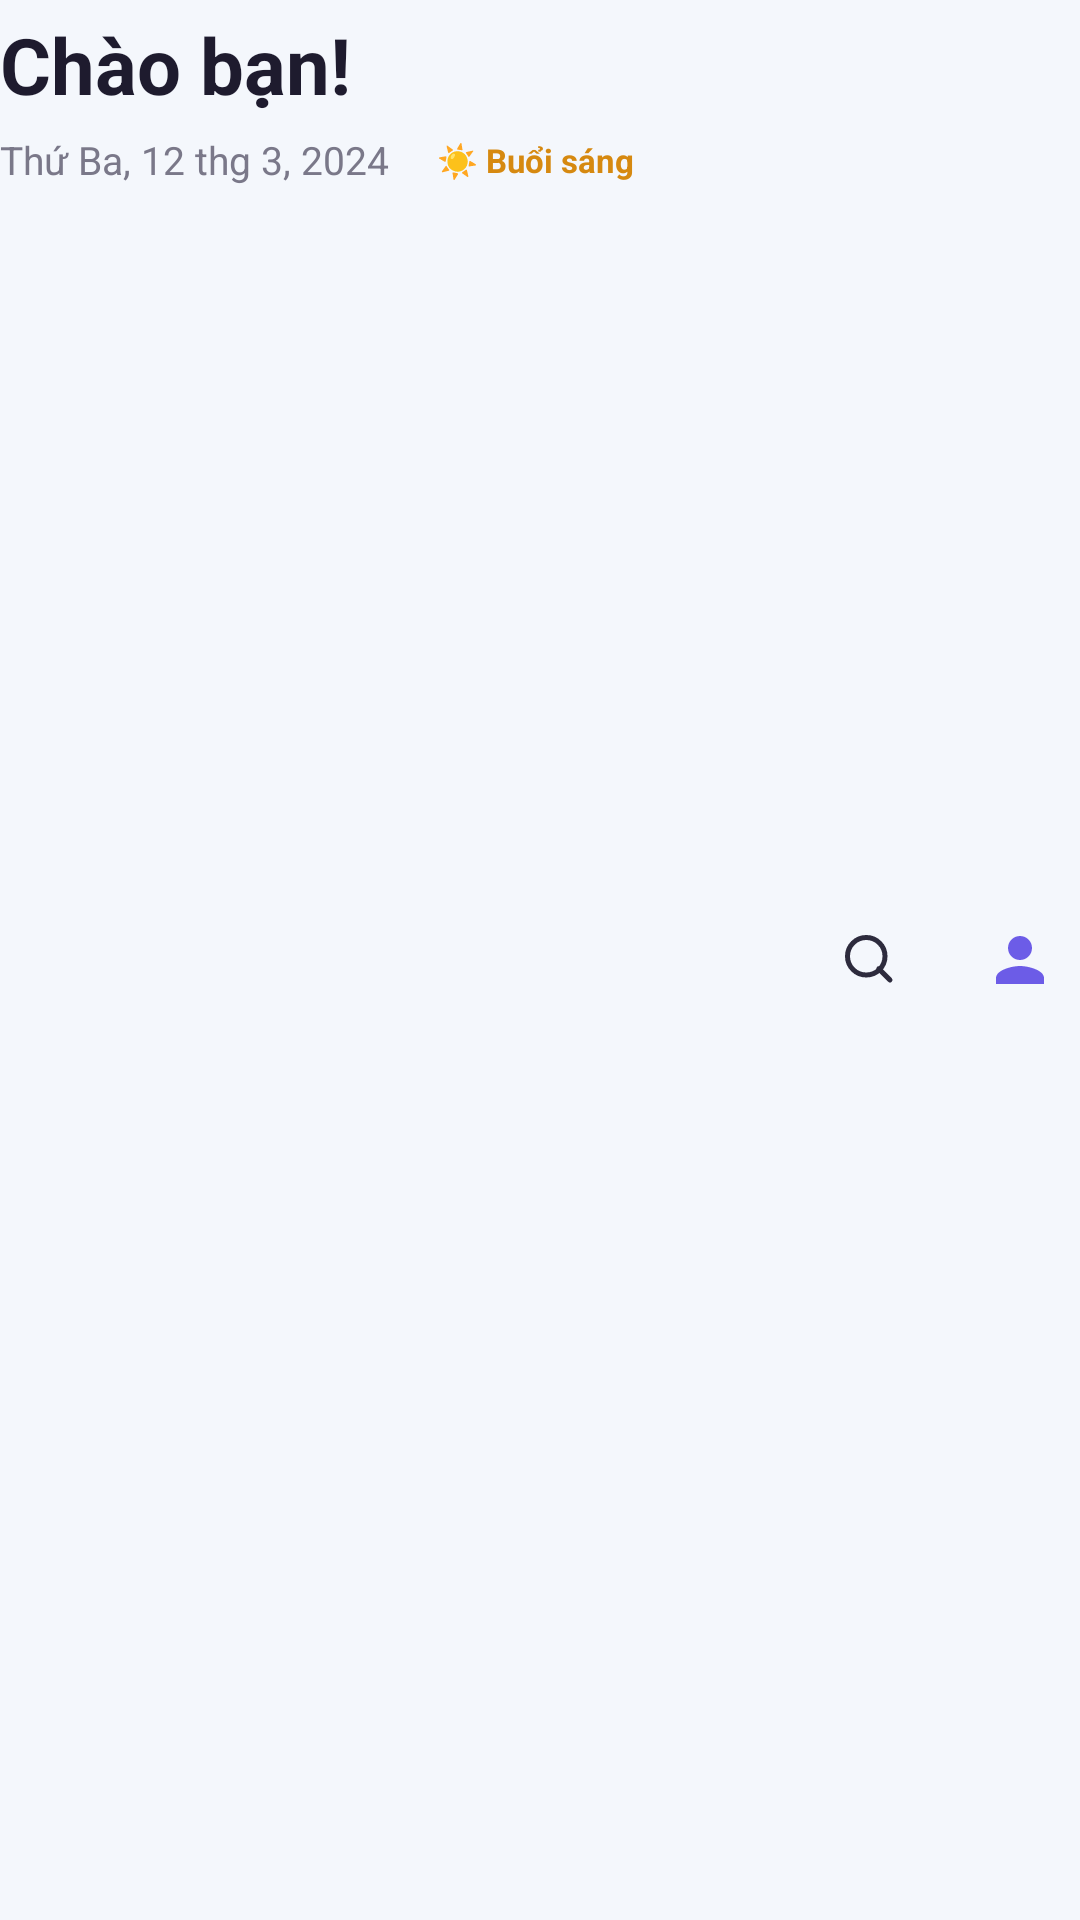

Where icons sit on this 1080 × 1920 app screen, as (x1,y1,x2,y2):
Hồ sơ: (996,936,1044,984)
Tìm kiếm: (845,935,893,983)
